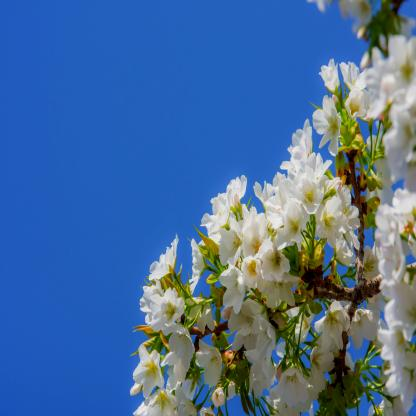OshimaSakura: (128, 0, 416, 416)
